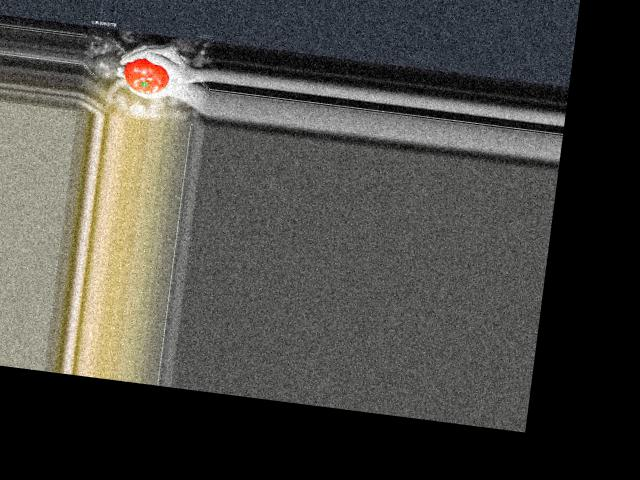tomato: (122, 56, 171, 96)
